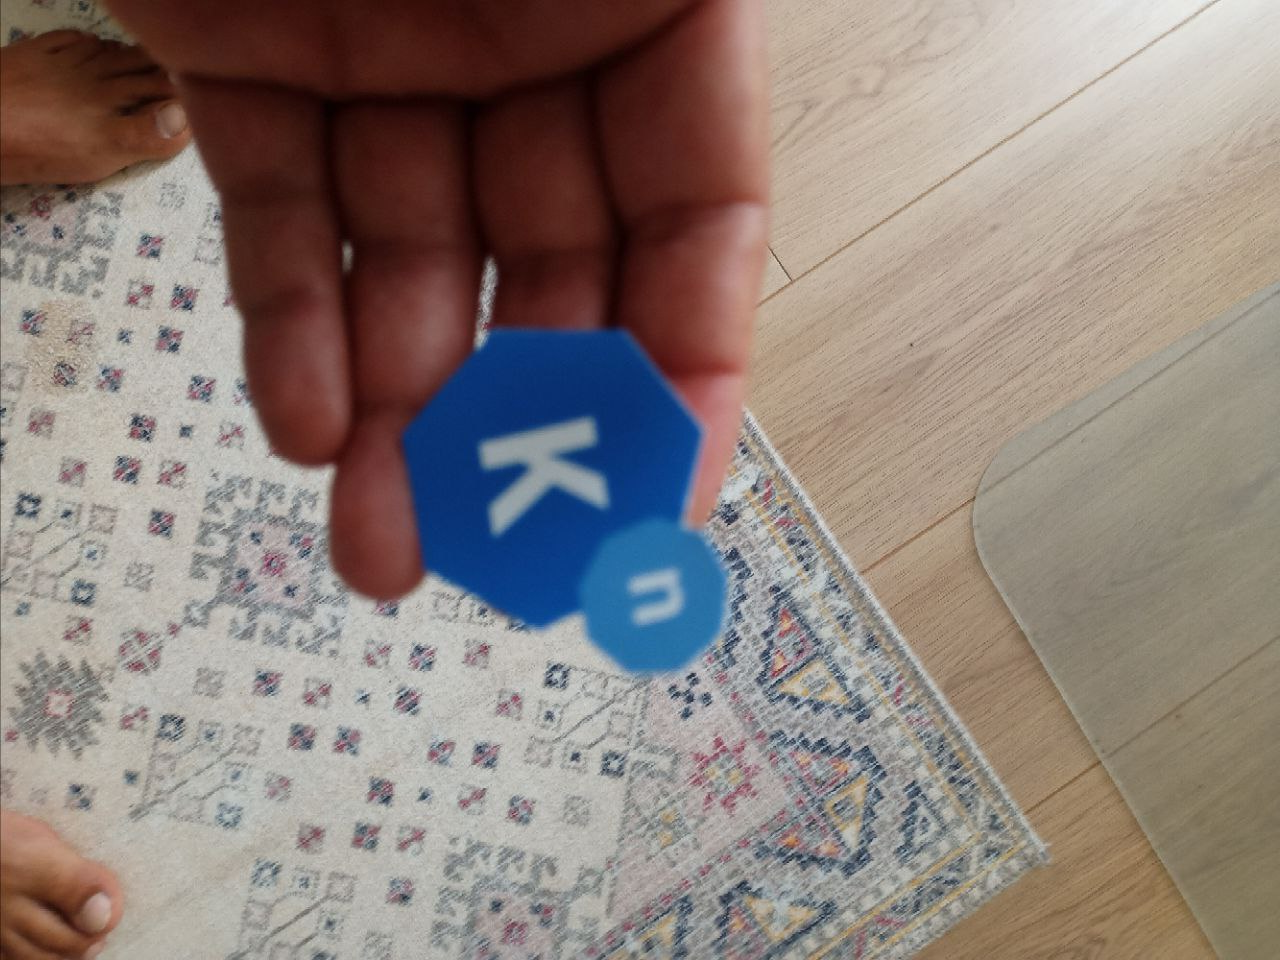knative: (393, 329, 732, 677)
